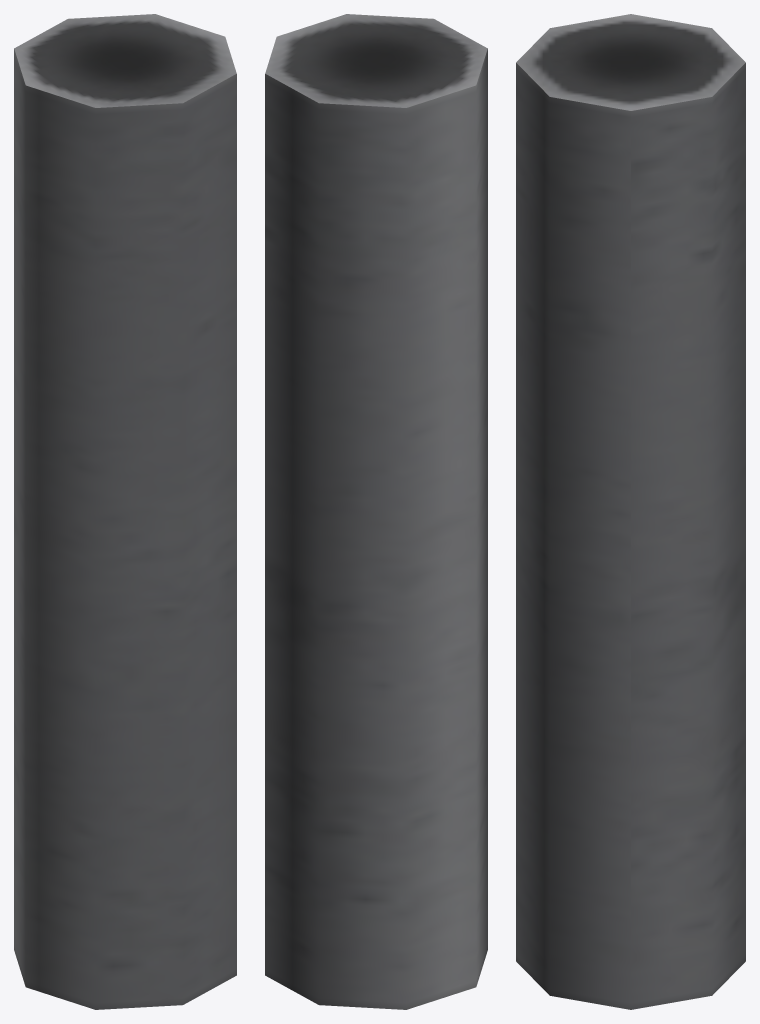
The model's file is set_trough_end.fbx.
3 views of the same model, side by side, from view 1: azimuth 30°, elevation 25°; view 2: azimuth 150°, elevation 25°; view 3: azimuth 270°, elevation 25° (orthographic).
Parts seen in each view (by area): view 1: set_trough_end; view 2: set_trough_end; view 3: set_trough_end.
Part boxes in pixels (x1,y1,x2,y2): set_trough_end: (14, 14, 236, 1009); set_trough_end: (265, 14, 487, 1009); set_trough_end: (516, 14, 745, 1009).
Bounding box in the file's own units: 23.17 × 100 × 23.17.
